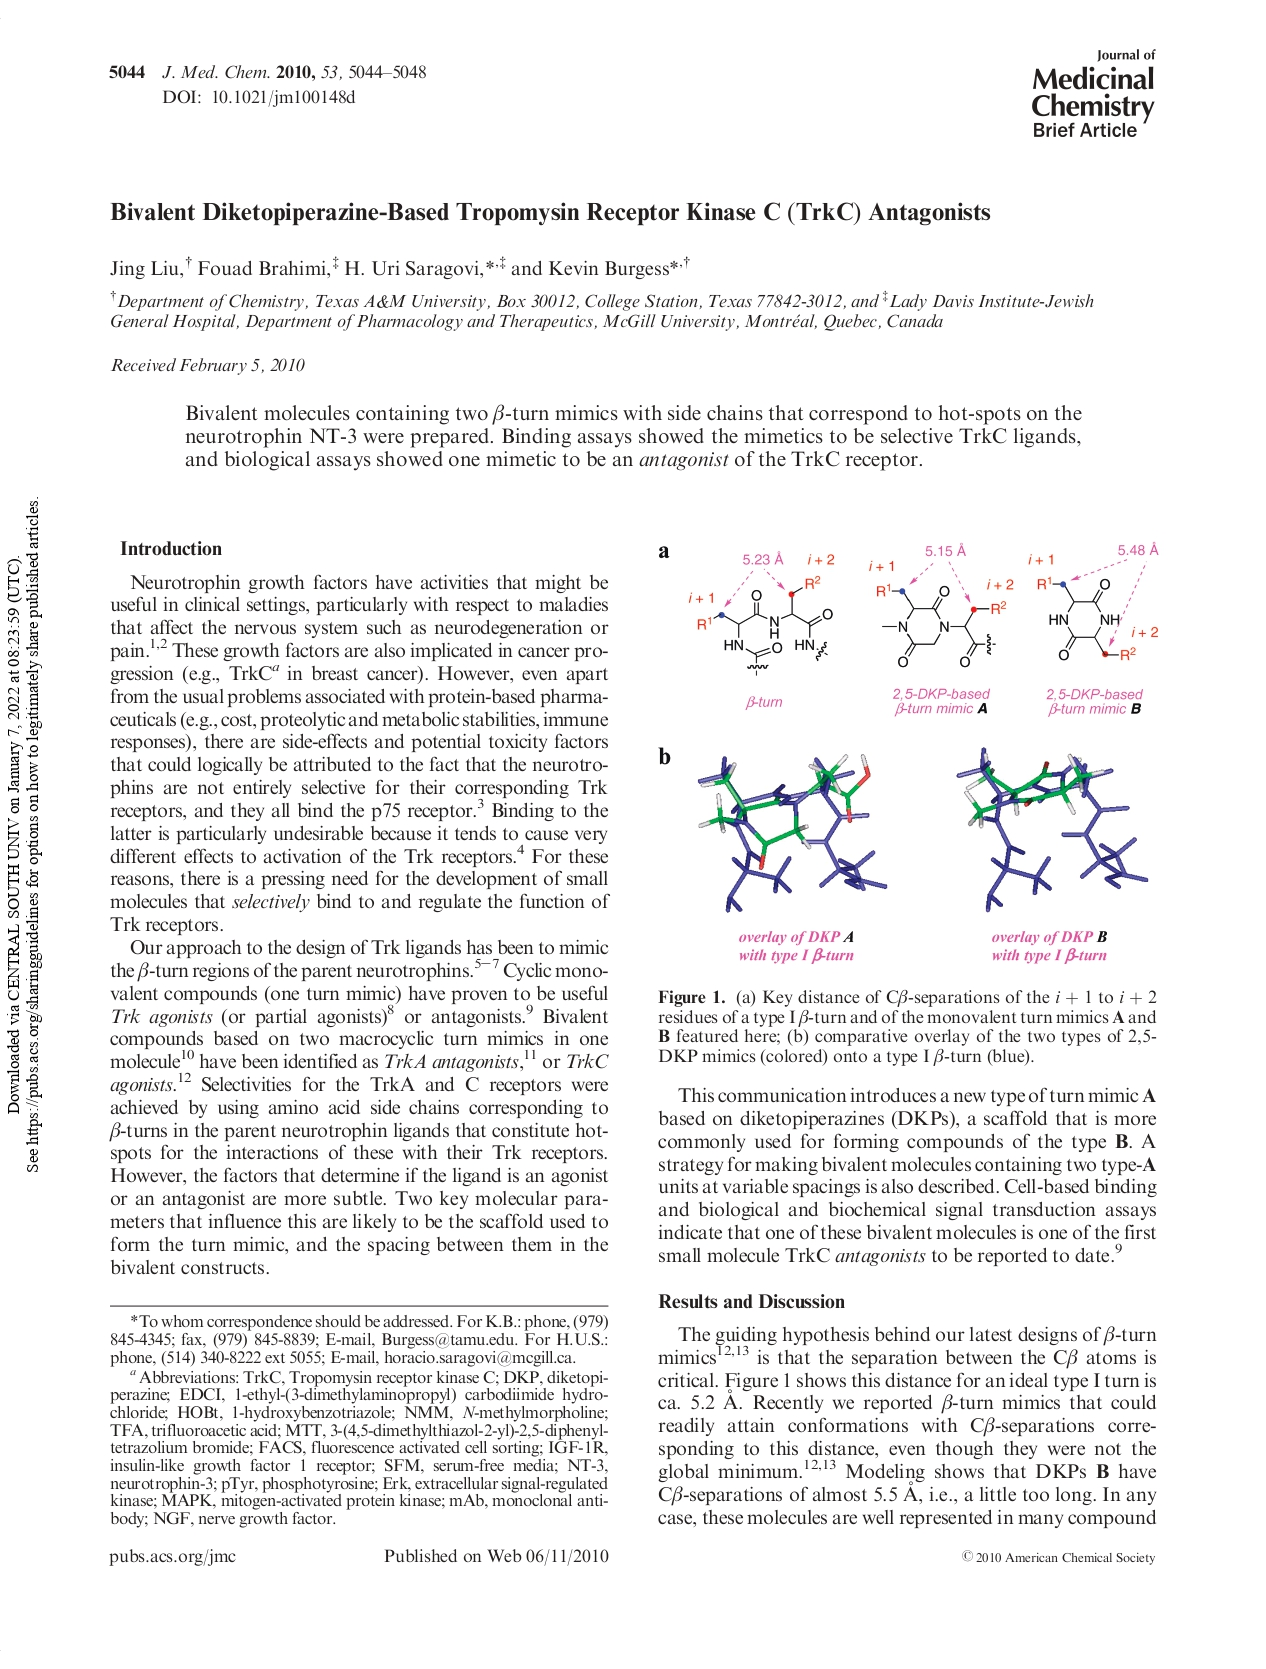exist_molecular: (701, 575, 842, 682), (872, 577, 1005, 680), (1035, 576, 1144, 674)
